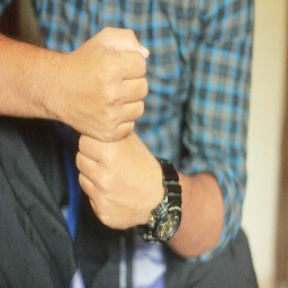G: (64, 15, 166, 237)
